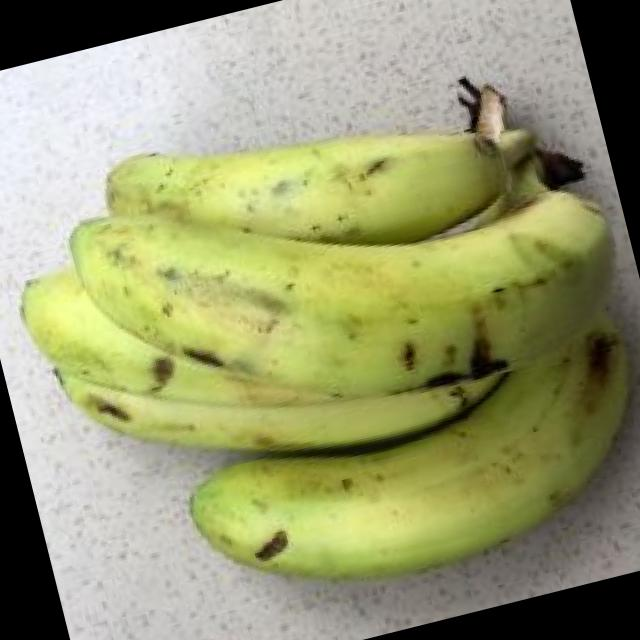banana: (61, 81, 569, 522)
